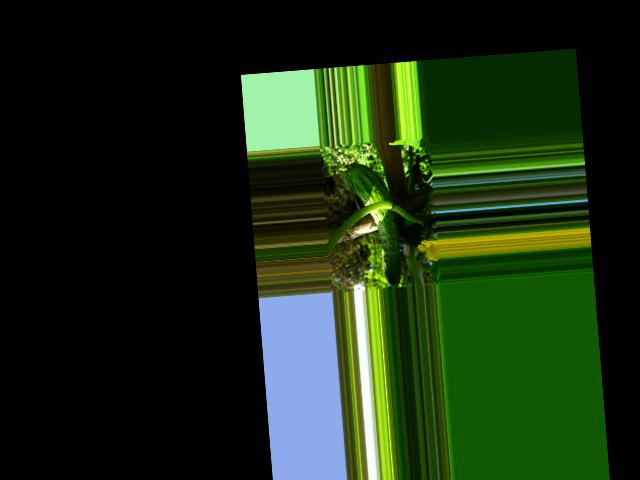cucumber: (346, 160, 403, 291)
